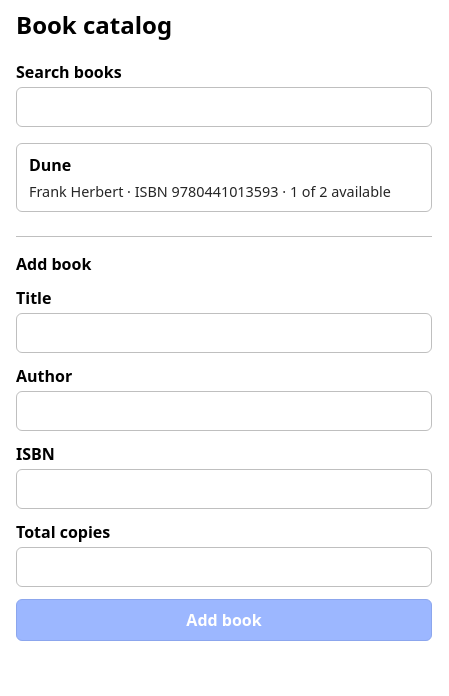
Test: BookCatalogPage › renders the exact 409 message when the ISBN already exists
Expected: the text "Dune" is shown, [29,154,71,176]
Type "Dune" into the field labelled "Title".
click(224, 333); type("Dune")  # box [16,313,432,353]
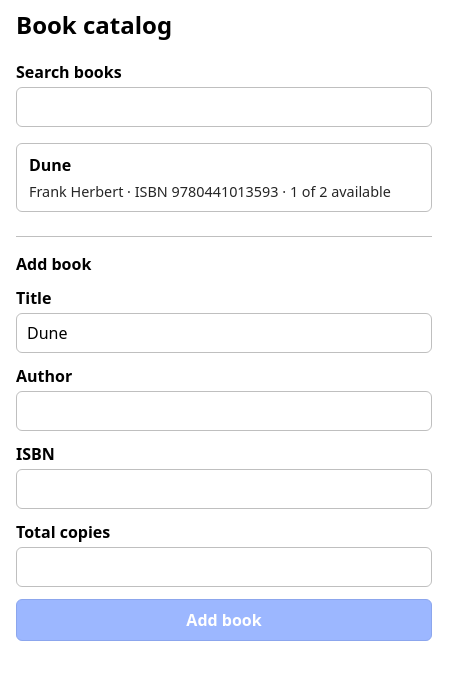
Type "Frank Herbert" into the field labelled "Author".
click(224, 411); type("Frank Herbert")  # box [16,391,432,431]
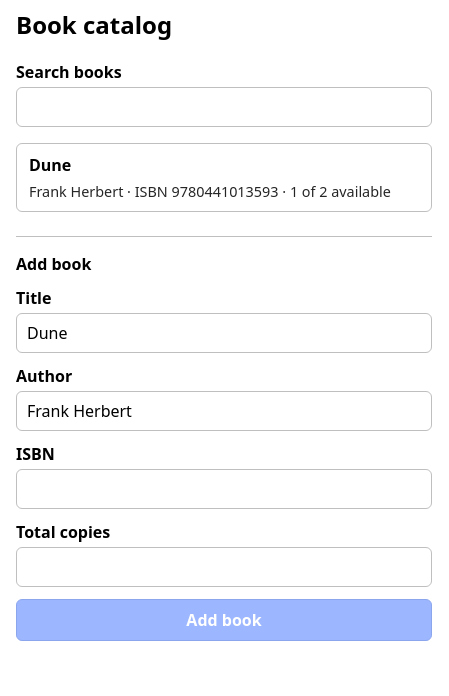
Type "9780441013593" into the field labelled "ISBN".
click(224, 489); type("9780441013593")  # box [16,469,432,509]
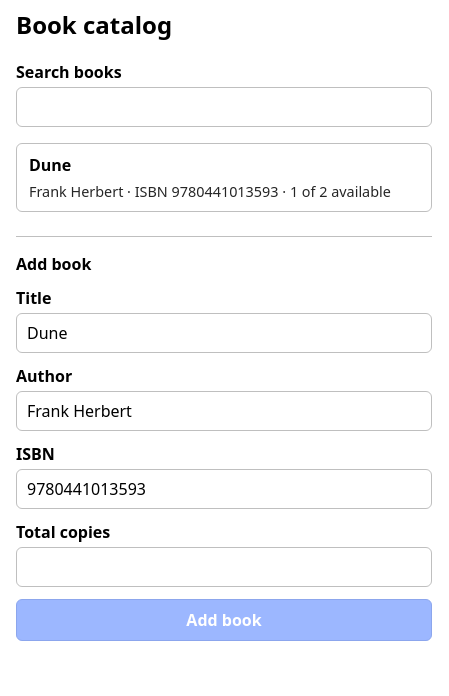
Type "2" into the number field labelled "Total copies".
click(224, 567); type("2")  # box [16,547,432,587]
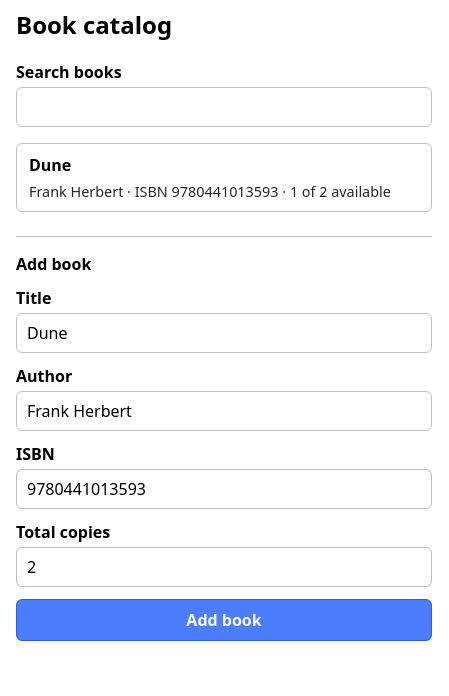
Click the button "Add book".
click(224, 620)  # box [16,599,432,641]
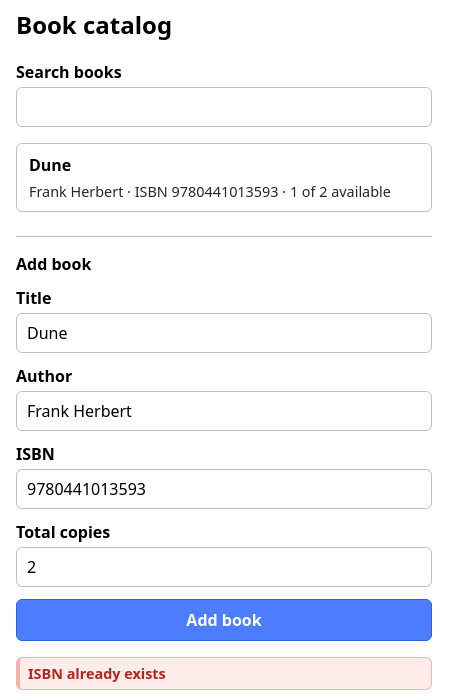
Result: the message reads "ISBN already exists" at [28,664,166,683]
